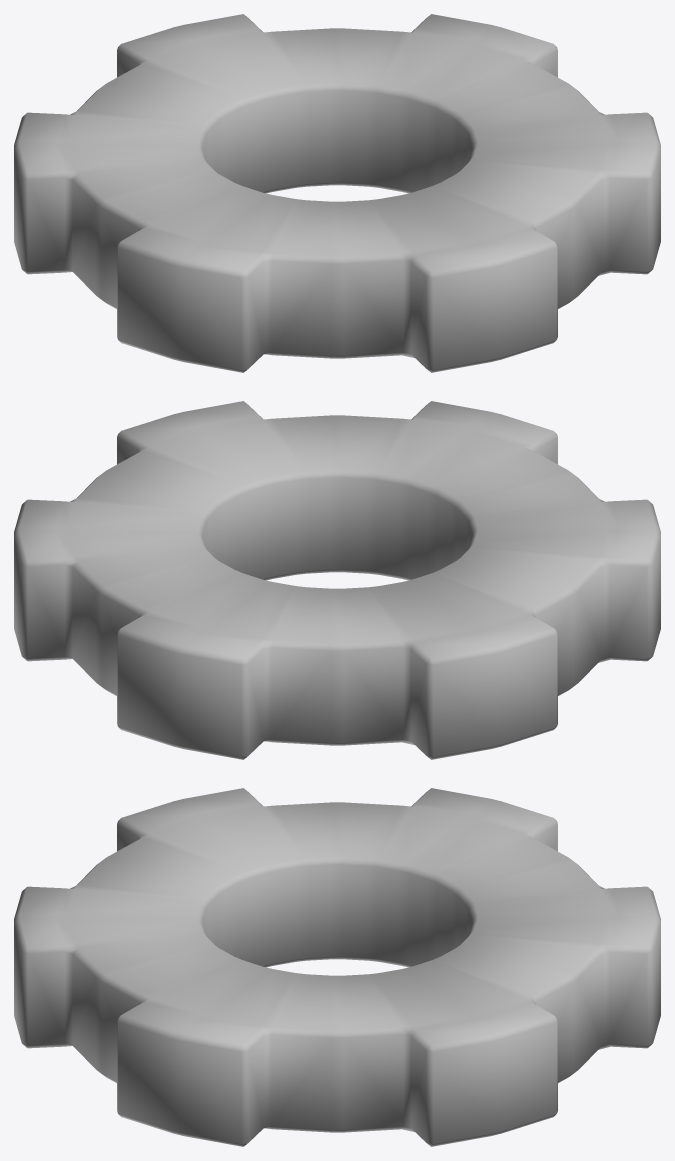
The model's file is gear.glb.
3 renders of one model, top to bottom at view 1: azimuth 30°, elevation 25°; view 2: azimuth 150°, elevation 25°; view 3: azimuth 270°, elevation 25°, orthographic.
Visible parts, largest first — view 1: Gear; view 2: Gear; view 3: Gear.
Part boxes in pixels (x1,y1,x2,y2): Gear: (14,14,660,372); Gear: (14,401,660,759); Gear: (14,788,660,1146).
Size of the model in its own units: 2.19 by 0.4 by 2.3.
Materials: 1 (1 with a texture image).
